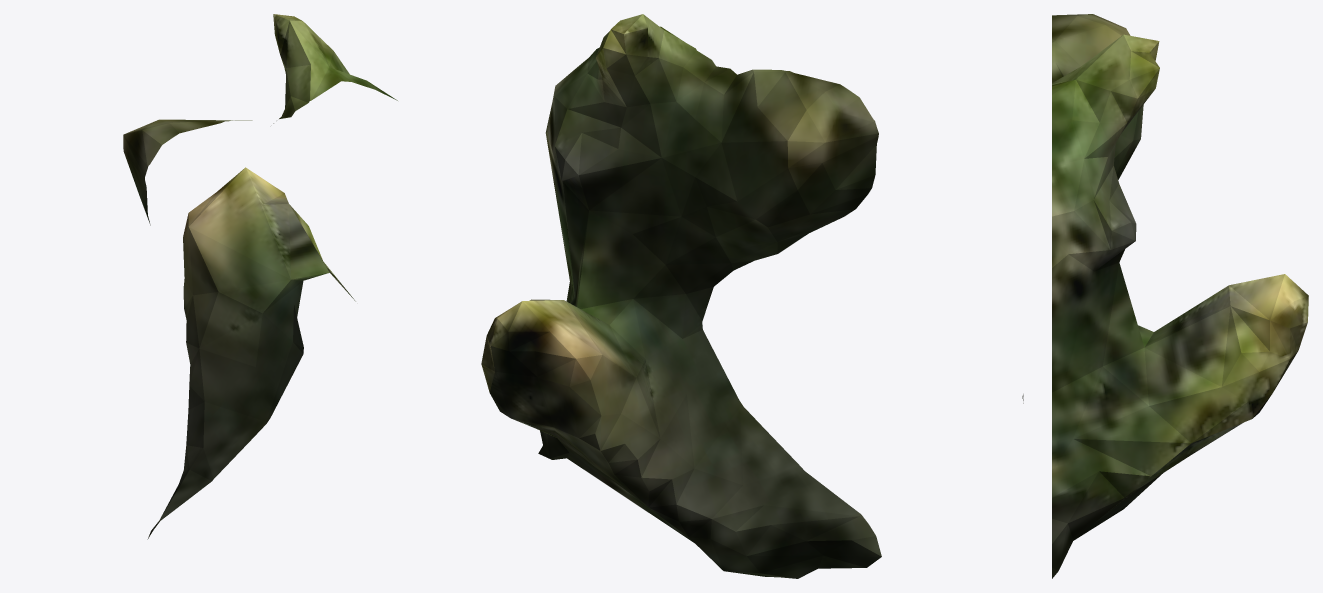
The picture shows the model from 3 angles, left to right: view 1: azimuth 30°, elevation 25°; view 2: azimuth 150°, elevation 25°; view 3: azimuth 270°, elevation 25°; orthographic projection. The views are drawn at different scales.
Size of the model in its own units: 0.5792 by 0.6476 by 0.2776.
2 materials, 2 textured.
